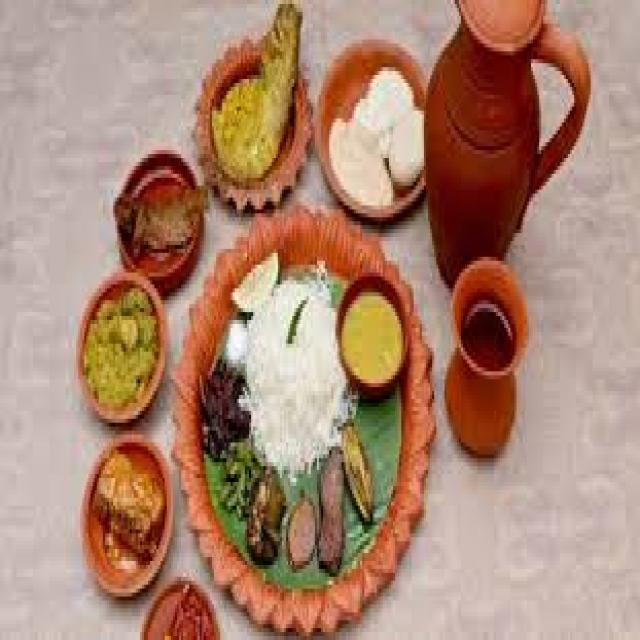dal: (333, 281, 407, 395)
pickle: (438, 261, 536, 422)
rice: (240, 276, 337, 468), (75, 284, 168, 422)
sweet: (436, 255, 537, 449), (324, 54, 429, 219), (80, 278, 167, 417), (130, 166, 203, 275)
veg-fry: (83, 438, 180, 596)
